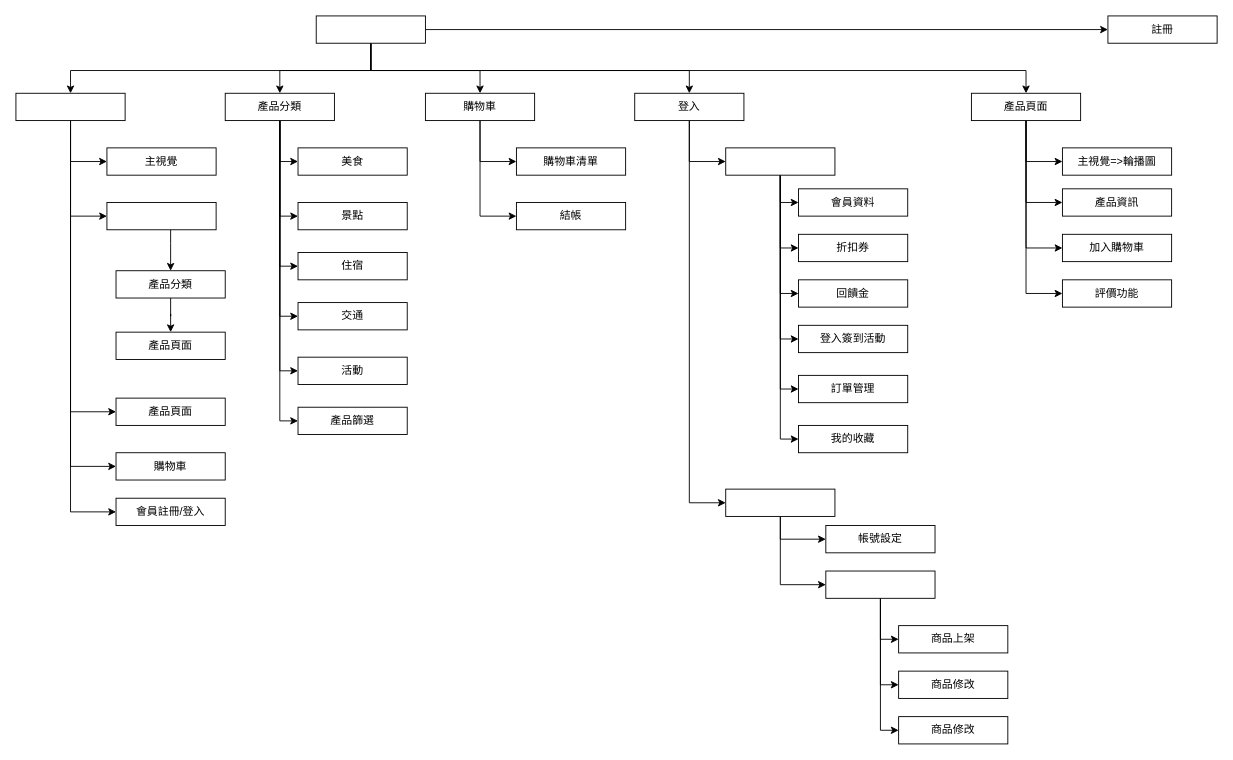
Some shapes in this 1233 by 760 pixel diagram are drawn without their labels. Each missing label, with the centre of its shape:
"SUNDAY GO網站" belongs at (370,29).
"台灣地圖" belongs at (161,216).
"商品管理" belongs at (880,584).
"廠商" belongs at (780,502).
"會員" belongs at (780,161).
"首頁" belongs at (70,106).
